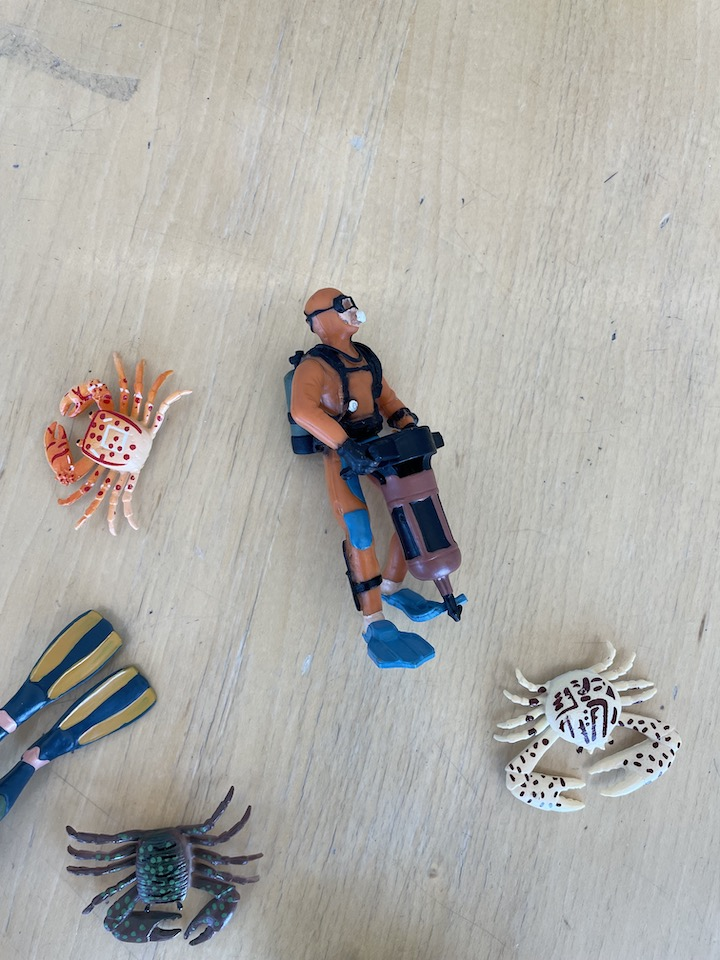crab: (491, 636, 685, 812), (62, 786, 264, 948), (43, 350, 193, 545)
diver: (283, 286, 468, 674), (1, 608, 158, 833)
